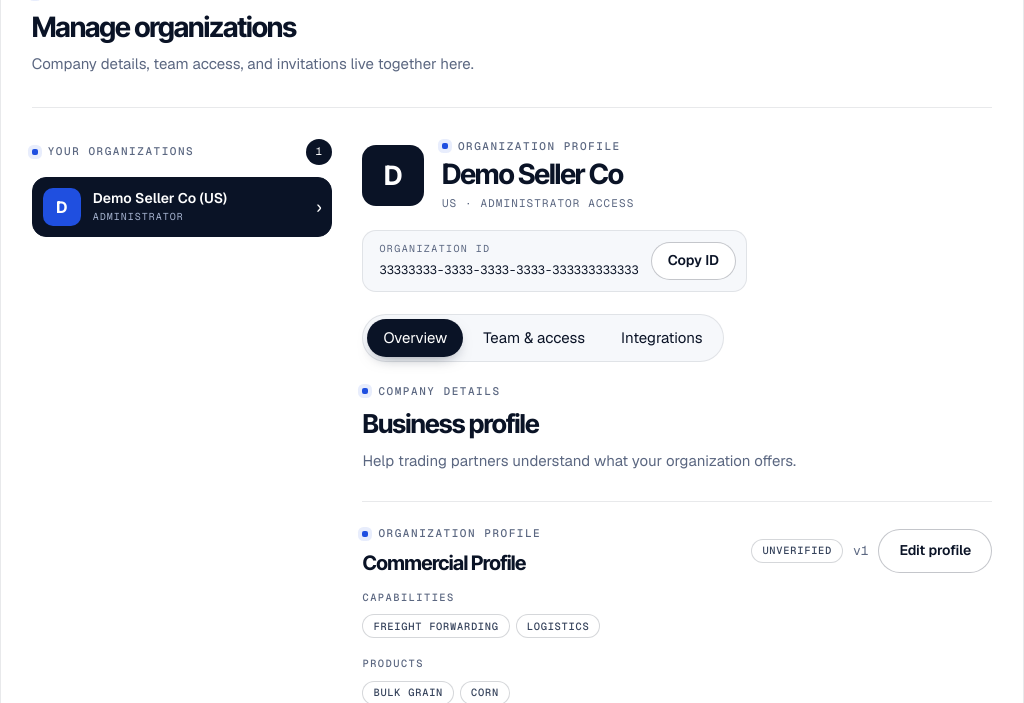
Test: OrganizationsPanel › shows stale error with refresh button when saving encounters a 409 conflict
Click the button "Edit profile": (935, 551) [878,529,992,573]
(page scrolled)
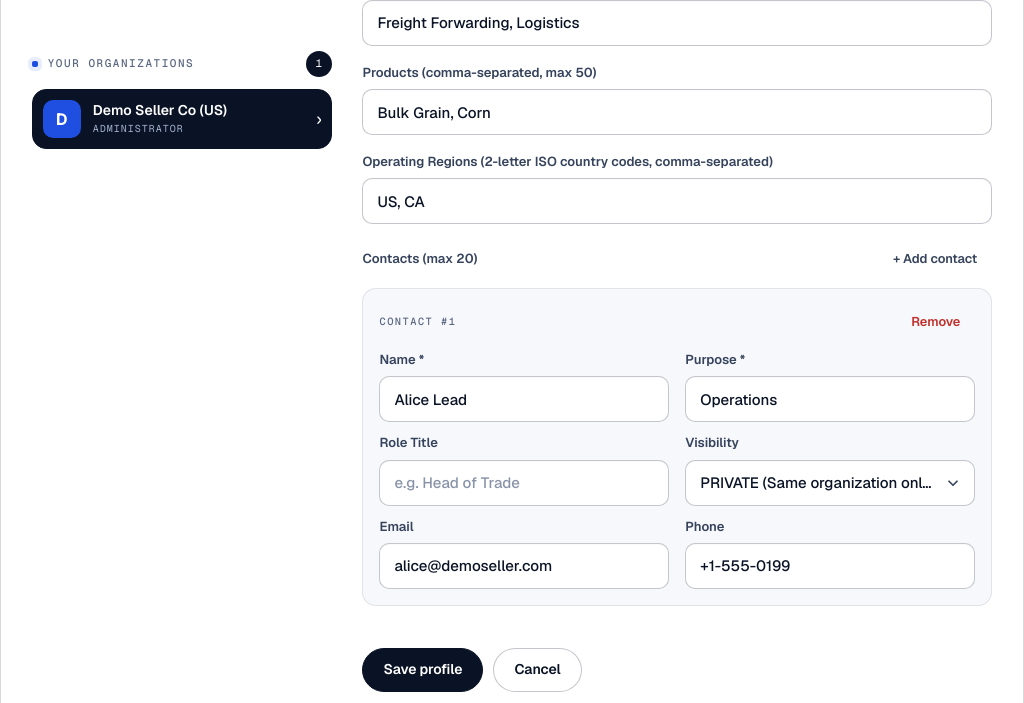
Click the button "Save profile": (423, 670) [362,648,483,692]
(page scrolled)
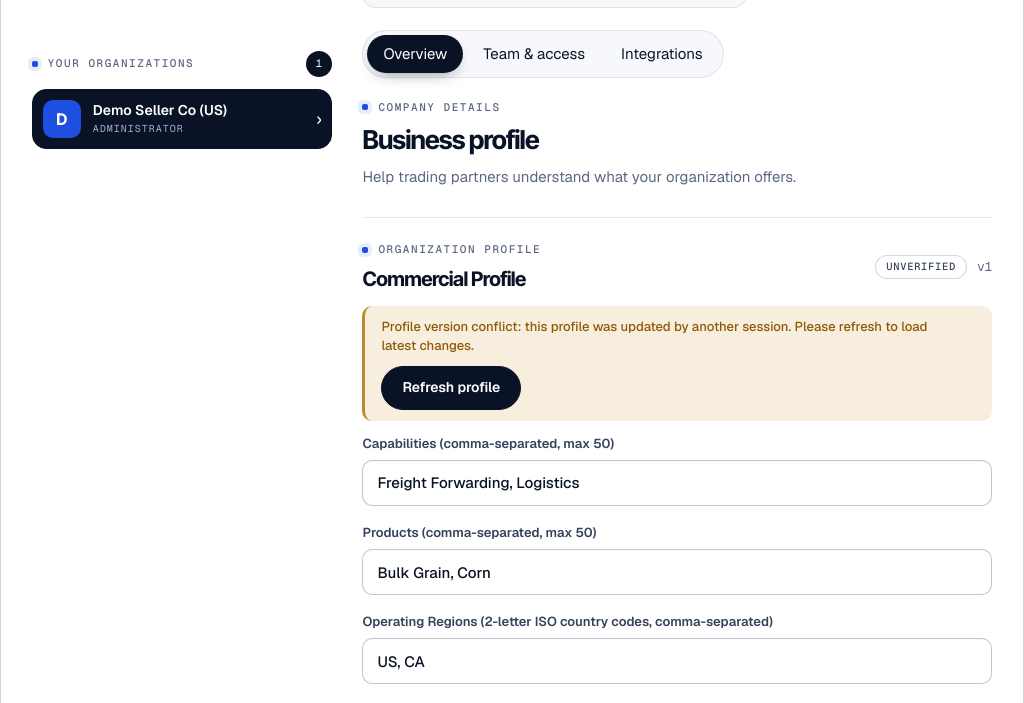
Check: the text "profile was updated by another session" is shown, box [381,318,928,354]
Check: the button "Refresh profile" is shown
Click the button "Refresh profile": (451, 388) [381,366,521,410]
(page scrolled)
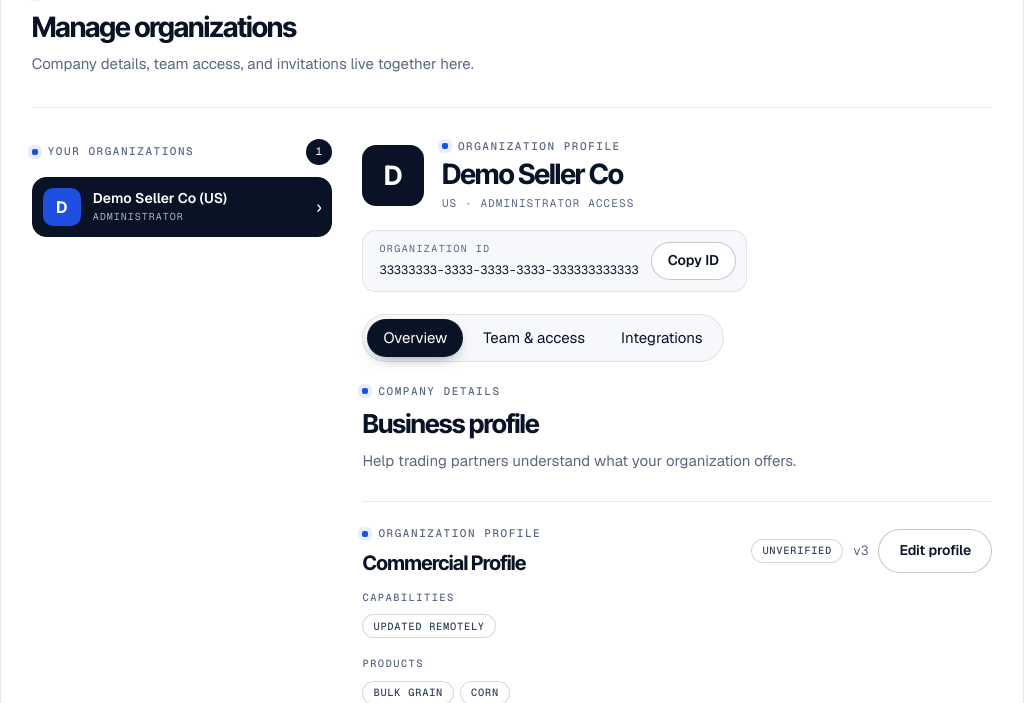
Check: the text "Updated Remotely" is shown, box [362,614,496,638]
Check: the text "v3" is shown, box [853,540,868,561]
